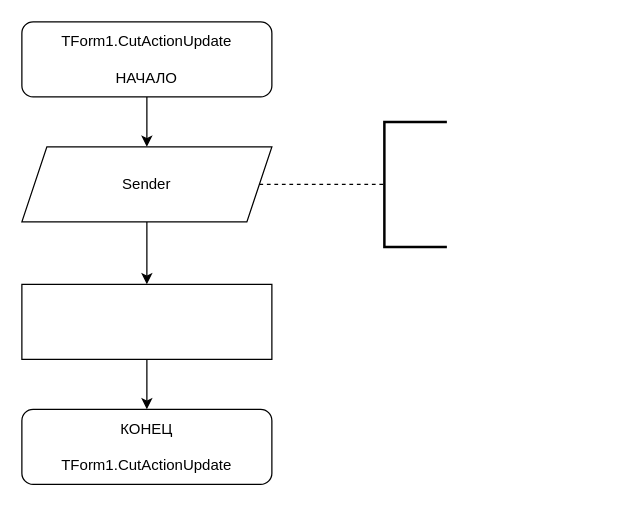
This 623x506 diagram has some shape labels left out. The box of each missing label's shape, as (x1, y1, x2, y2) in pixels:
Senter - TObject, по значению: (382, 120, 448, 248)
TAction(Sender).Enabled:= Memo1.SelLength > 0;: (21, 283, 272, 359)
